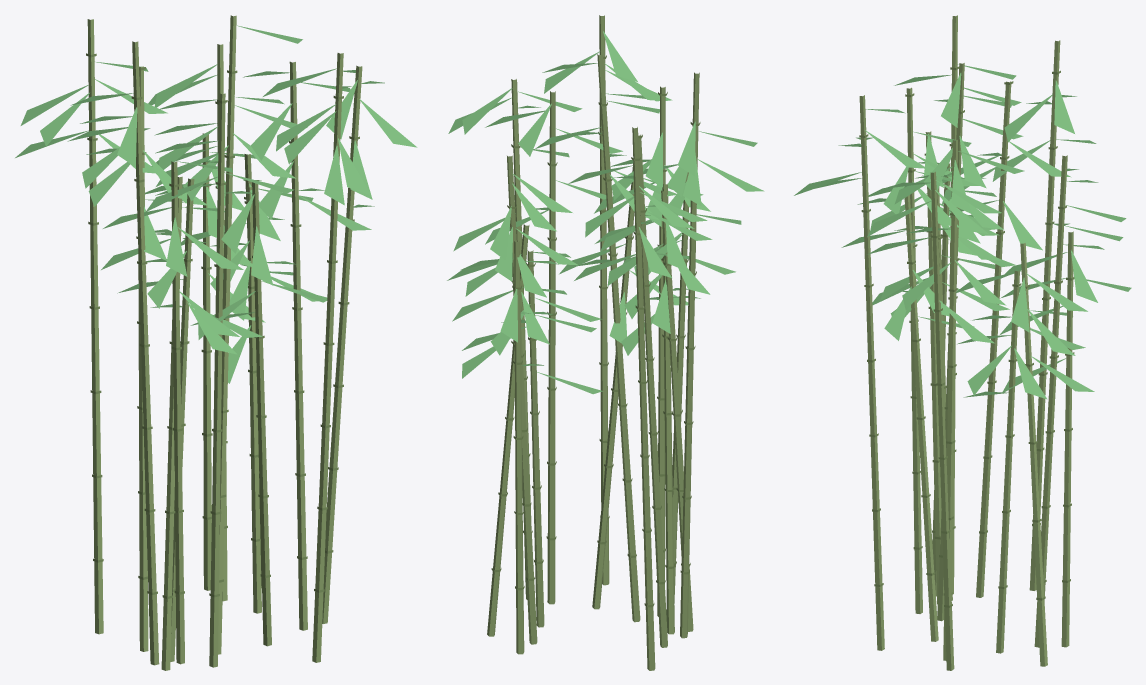
The model's file is bamboo_grove_clump.glb.
3 views of the same model, side by side, from view 1: azimuth 30°, elevation 25°; view 2: azimuth 150°, elevation 25°; view 3: azimuth 270°, elevation 25° (orthographic). The views are drawn at different scales.
Visible parts, largest first — view 1: bamboo_grove_clump; view 2: bamboo_grove_clump; view 3: bamboo_grove_clump.
Boxes of the visible parts, <box> form: bamboo_grove_clump: <box>15,15,417,670</box>; bamboo_grove_clump: <box>447,15,764,670</box>; bamboo_grove_clump: <box>794,15,1131,670</box>.
Bounding box in the file's own units: 5.67 × 10.58 × 5.68.
